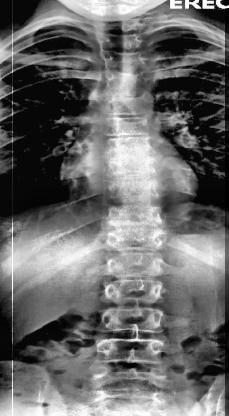Vertebrae: (87, 364, 180, 390), (90, 339, 174, 367), (101, 275, 167, 306), (94, 308, 170, 334), (95, 136, 155, 164), (103, 252, 165, 276), (101, 160, 163, 184), (106, 204, 165, 228), (106, 181, 164, 205), (97, 115, 151, 139), (96, 27, 152, 49), (99, 48, 150, 72), (106, 230, 167, 250), (100, 72, 152, 95), (96, 94, 150, 116)
